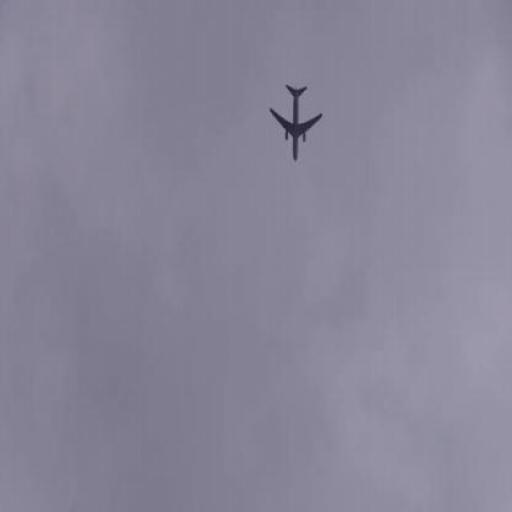aircraft: (267, 82, 324, 168)
